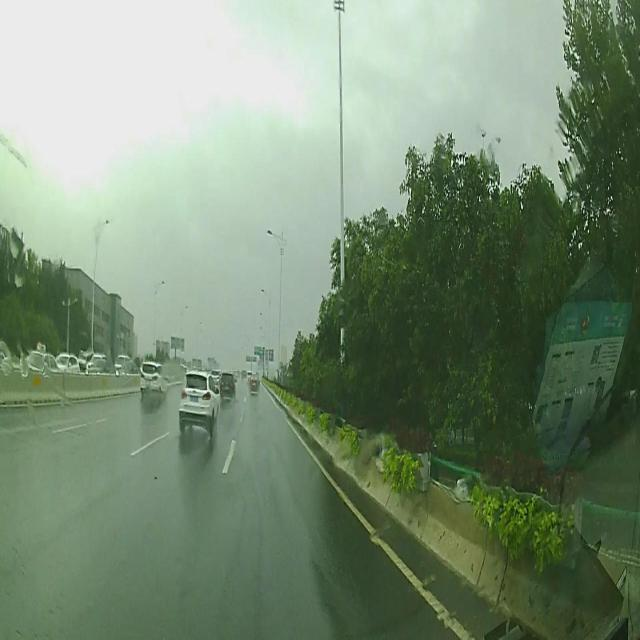car: (178, 368, 218, 439), (138, 362, 169, 404), (220, 370, 237, 401), (249, 371, 259, 397)
